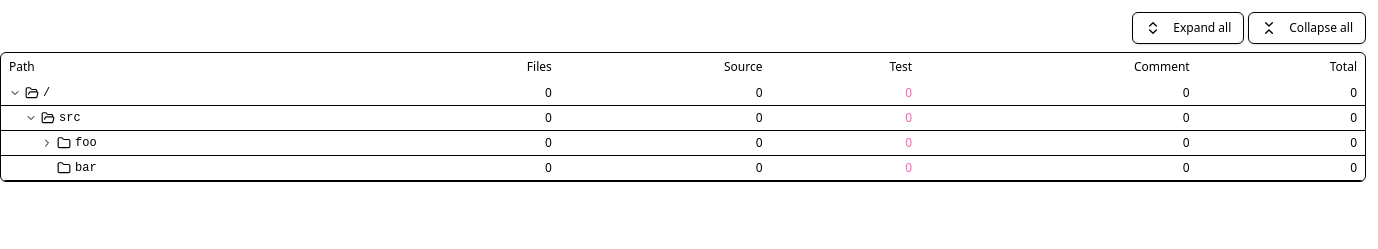
Scenario: directoryTree › toggles a deep folder and preserves its state when its ancestor is collapsed and re-expanded
Expected: the text "foo" is shown, [75,135,97,151]
Expected: the text "deep" is not shown
# Expand foo, then deep.
Click the button "foo".
click(47, 143)  # box [9,135,394,151]
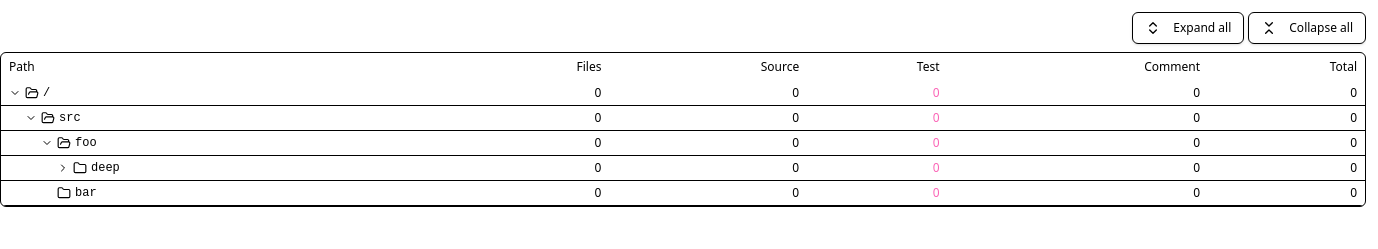
Expected: the text "deep" is shown, [91,160,120,176]
Click the button "deep".
click(63, 168)  # box [9,160,453,176]
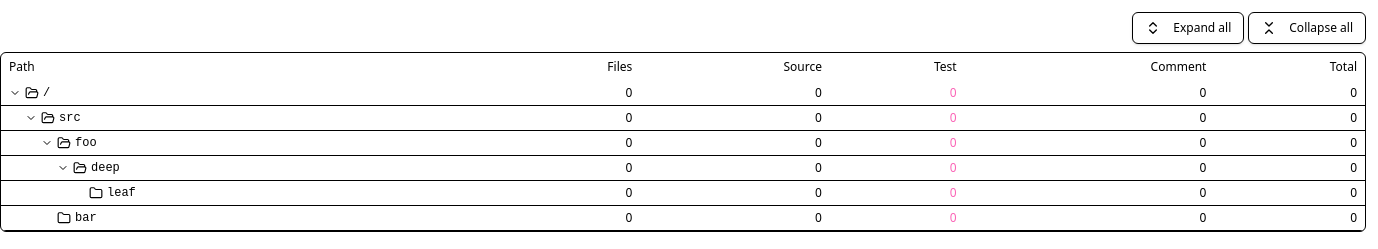
Expected: the text "leaf" is shown, [107,185,136,201]
# Collapse src — deep / leaf disappear.
Click the button "src".
click(31, 118)  # box [9,110,490,126]
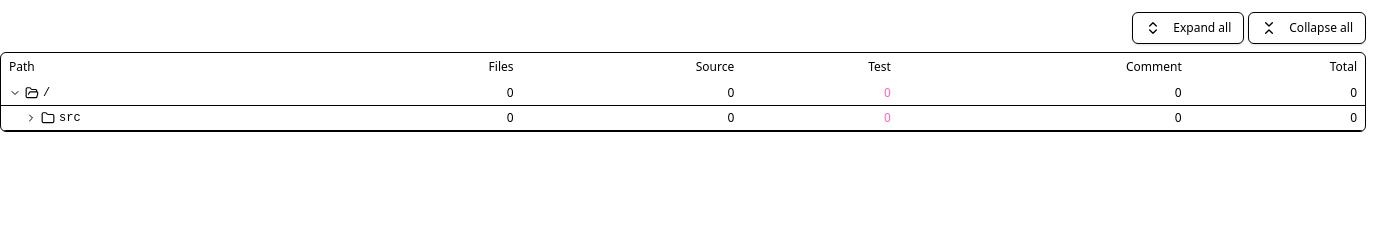
Expected: the button "foo" is gone
Expected: the button "leaf" is gone
Click the button "src".
click(31, 118)  # box [9,110,348,126]
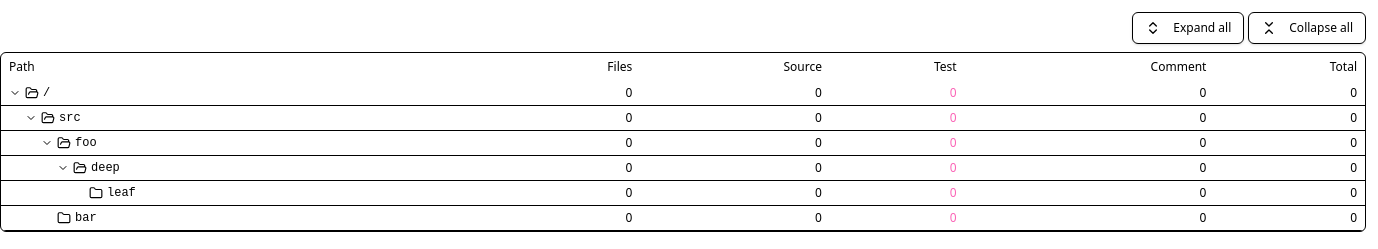
Expected: the text "foo" is shown, [75,135,97,151]
Expected: the text "deep" is shown, [91,160,120,176]
Expected: the text "leaf" is shown, [107,185,136,201]
